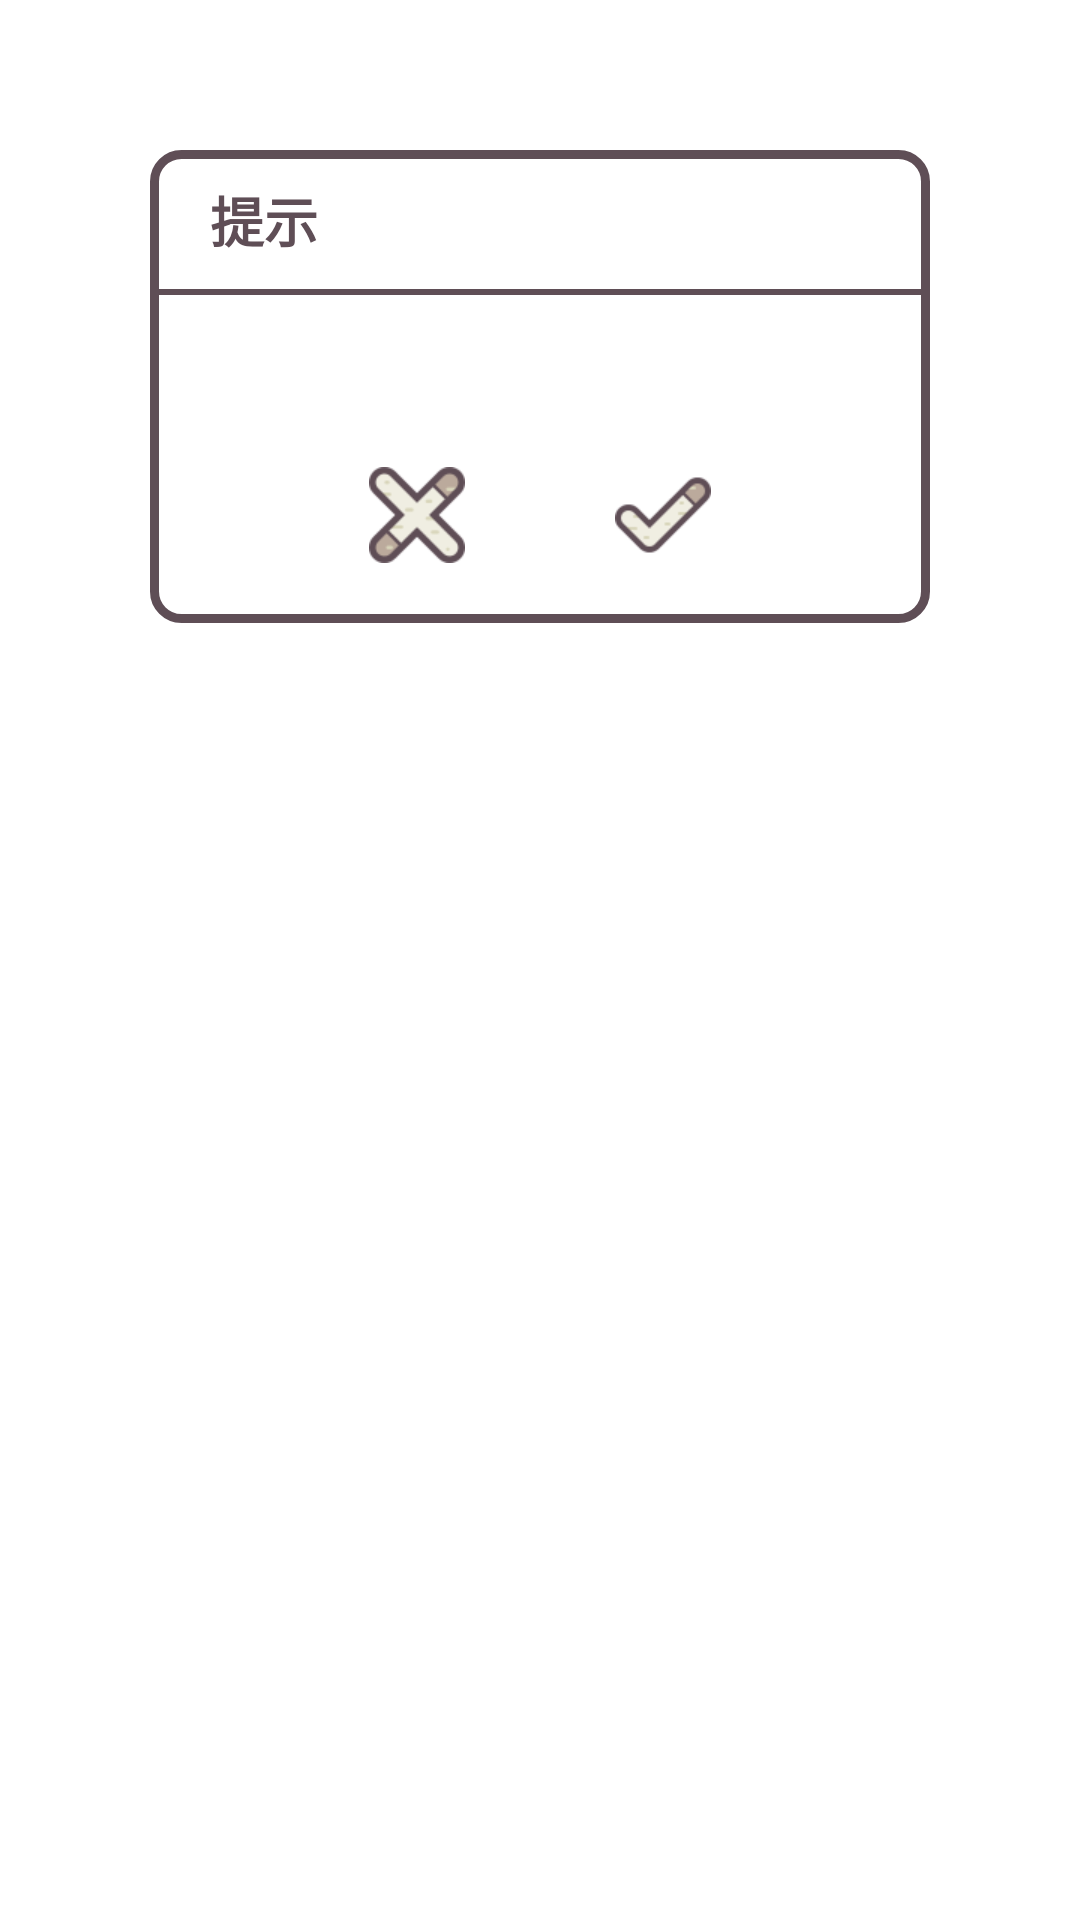

Icon bounding boxes for this 1080x1920 phone screenshot, format (x1, y1, x2, y2):
affirm select: (615, 477, 711, 553)
error select: (369, 467, 465, 563)
